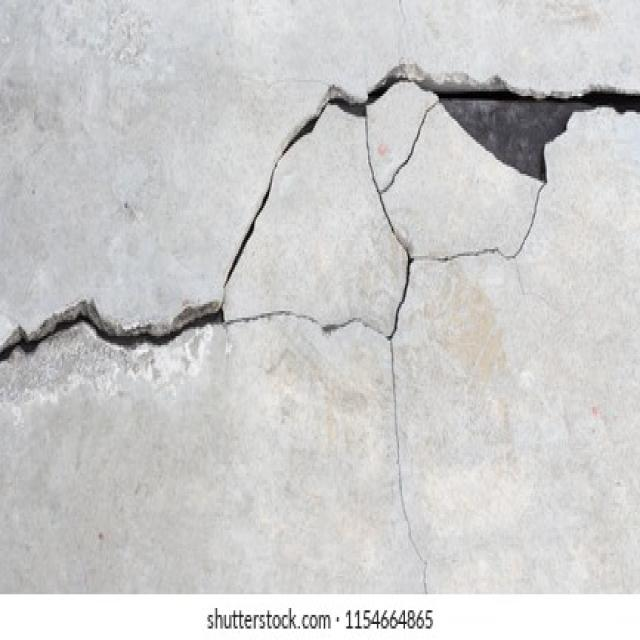Crack: (0, 57, 639, 359), (386, 336, 427, 590)
